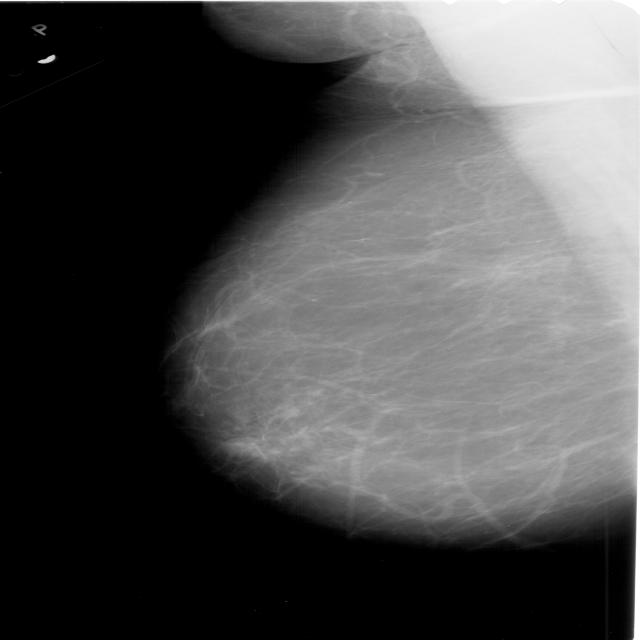normal: (163, 0, 640, 546)
